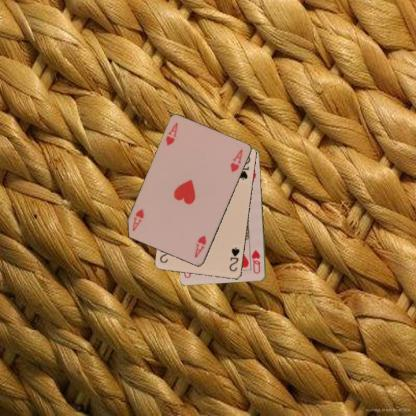2s: (227, 244, 241, 273)
Ah: (164, 120, 179, 147), (192, 233, 207, 259)
Qh: (249, 247, 262, 275)
